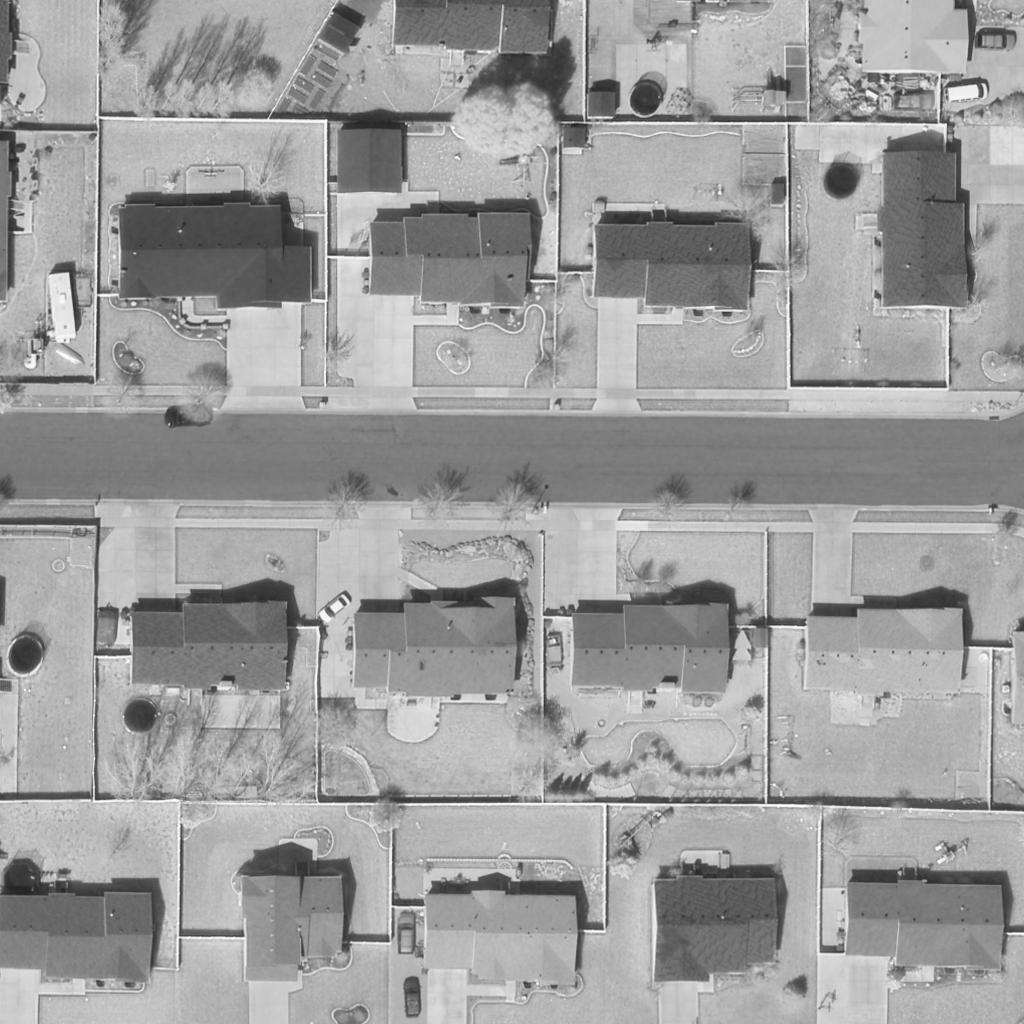vehicle: (48, 273, 78, 343), (317, 591, 353, 627), (946, 85, 990, 105), (57, 345, 89, 371), (403, 979, 423, 1017), (975, 33, 1017, 51), (397, 913, 415, 955), (895, 94, 933, 110)
